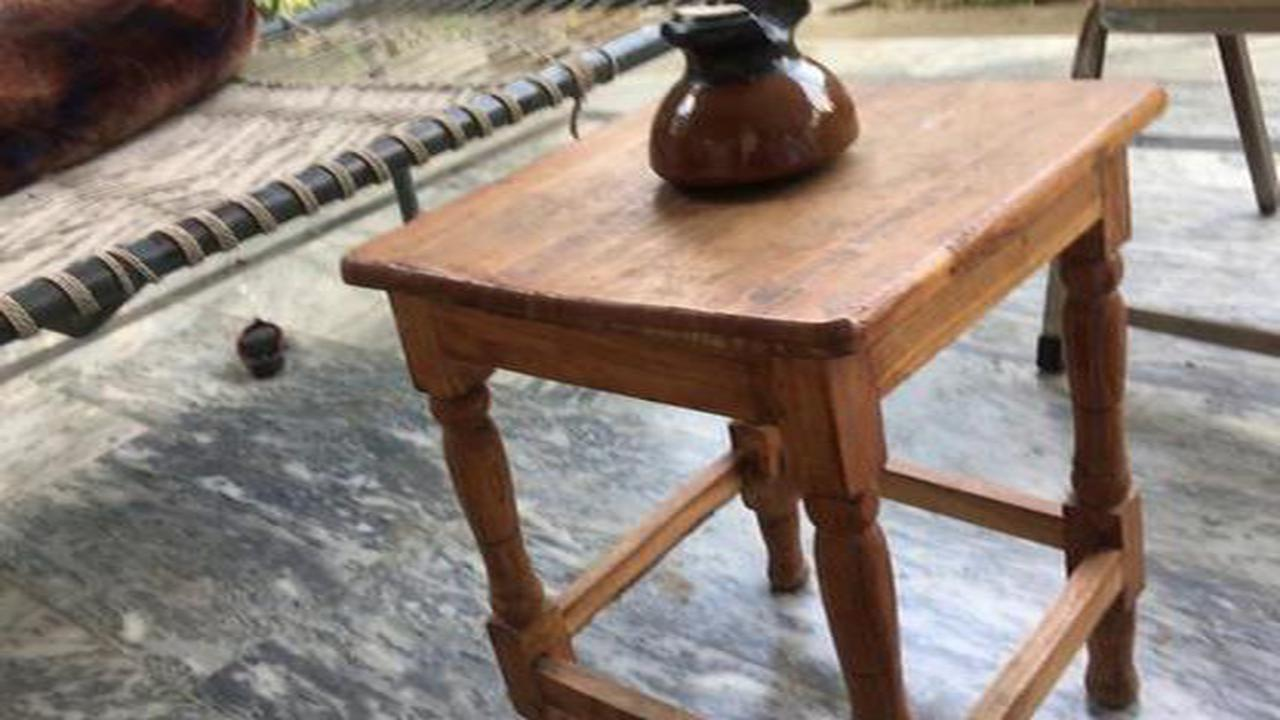insulator_pin: (622, 1, 896, 203)
